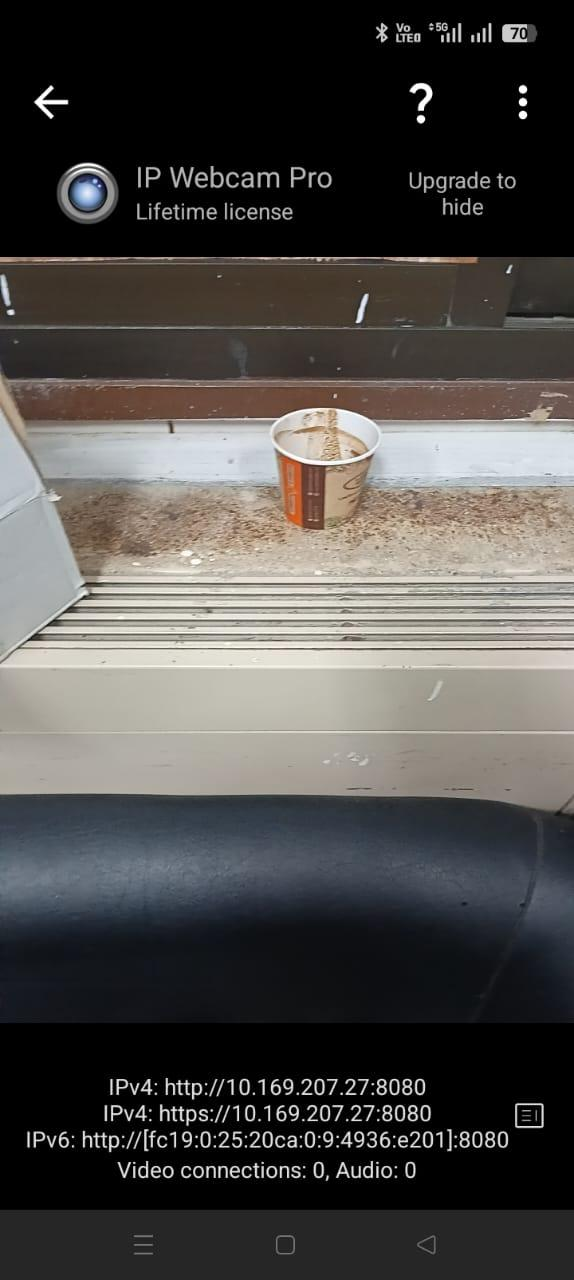cup: (271, 408, 380, 529), (292, 409, 382, 464)
